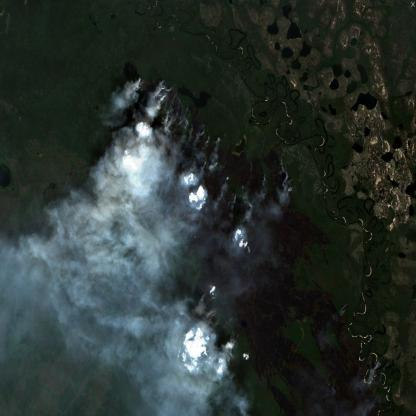fire: (131, 72, 381, 416)
